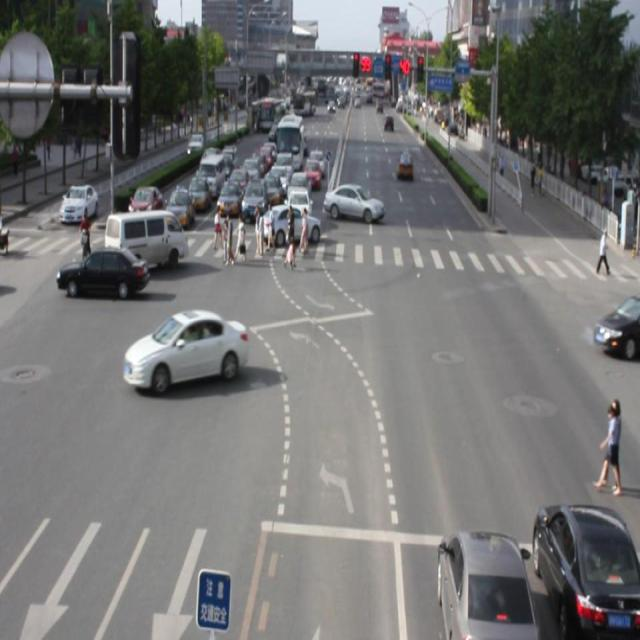car: (523, 495, 640, 640), (429, 524, 530, 640), (124, 309, 250, 389), (56, 246, 151, 298), (262, 204, 320, 246)
truck: (105, 208, 191, 272)
